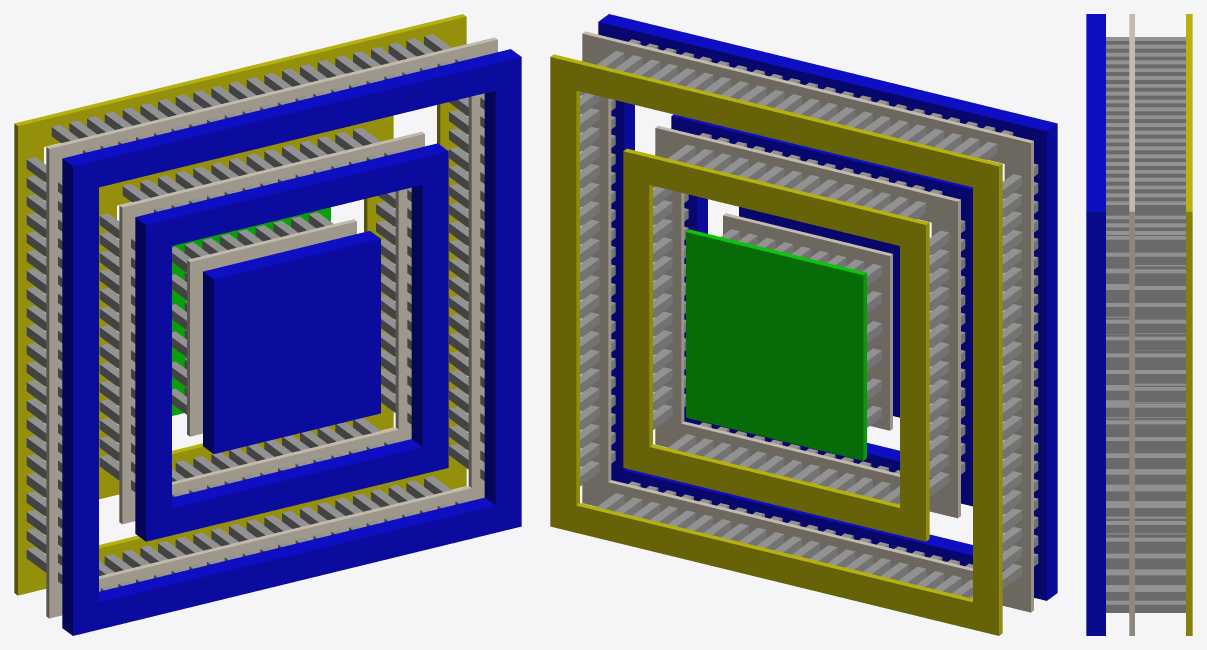
The model's file is example_bjt.glb.
The picture shows the model from 3 angles, left to right: view 1: azimuth 30°, elevation 25°; view 2: azimuth 150°, elevation 25°; view 3: azimuth 270°, elevation 25°; orthographic projection. The views are drawn at different scales.
Parts seen in each view (by area): view 1: met1_2, met1_1, met1_0, li1_2, tap_1, li1_1, tap_0, li1_0, diff_0; view 2: tap_1, tap_0, diff_0, met1_2, li1_2, li1_1, met1_1, li1_0, met1_0; view 3: met1_2, tap_1, li1_2, licon1_12, licon1_18, licon1_20, licon1_27, licon1_29, licon1_31, licon1_32, licon1_40, licon1_41 (+99 smaller).
Part boxes in pixels (x1,y1,x2,y2): met1_2: [62, 49, 521, 635]; met1_1: [135, 143, 448, 541]; met1_0: [203, 231, 380, 453]; li1_2: [46, 37, 497, 618]; tap_1: [14, 14, 466, 595]; li1_1: [119, 131, 424, 524]; tap_0: [99, 115, 393, 499]; li1_0: [187, 219, 356, 436]; diff_0: [172, 207, 330, 415]; tap_1: [550, 54, 1002, 635]; tap_0: [623, 148, 929, 541]; diff_0: [686, 229, 866, 460]; met1_2: [598, 14, 1057, 600]; li1_2: [582, 31, 1033, 612]; li1_1: [655, 125, 960, 518]; met1_1: [671, 114, 972, 506]; li1_0: [723, 213, 892, 430]; met1_0: [739, 207, 899, 417]; met1_2: [1086, 14, 1105, 635]; tap_1: [1186, 14, 1192, 635]; li1_2: [1129, 14, 1134, 635]; licon1_12: [1135, 403, 1185, 415]; licon1_18: [1135, 370, 1185, 382]; licon1_20: [1135, 353, 1185, 365]; licon1_27: [1135, 336, 1185, 348]; licon1_29: [1135, 319, 1185, 331]; licon1_31: [1135, 303, 1185, 315]; licon1_32: [1135, 286, 1185, 298]; licon1_40: [1135, 269, 1185, 281]; licon1_41: [1135, 252, 1185, 264].
Size of the model in its own units: 8.6 by 8.6 by 1.95.
